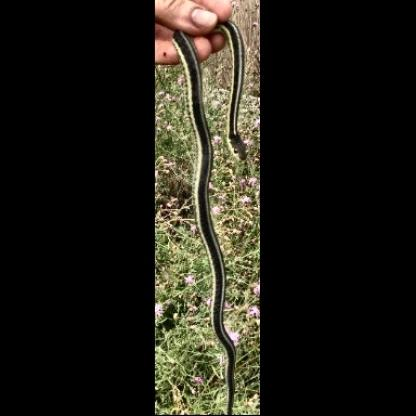Snake: (168, 17, 247, 396)
